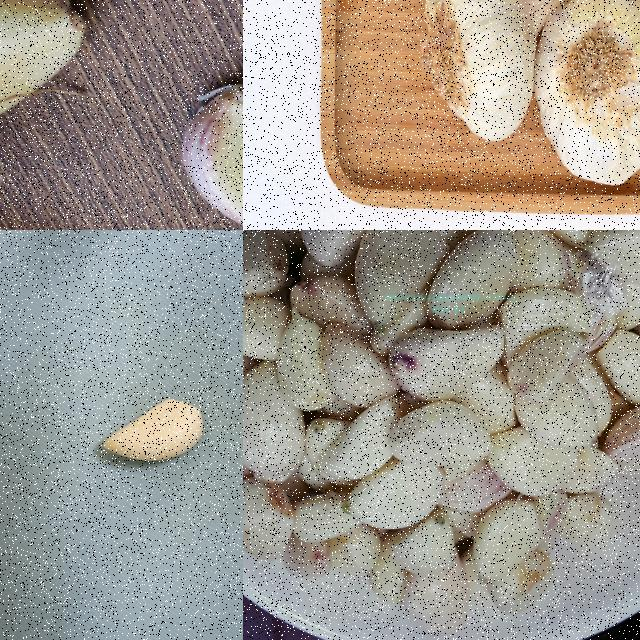garlic: (243, 230, 639, 634), (533, 0, 639, 190), (418, 0, 537, 145), (0, 0, 88, 128), (174, 79, 242, 229), (99, 395, 205, 465)
